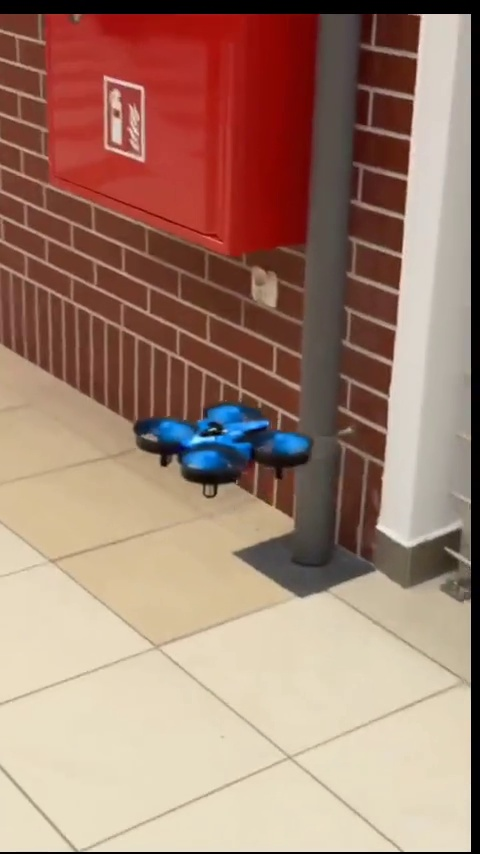drone: (135, 407, 311, 498)
